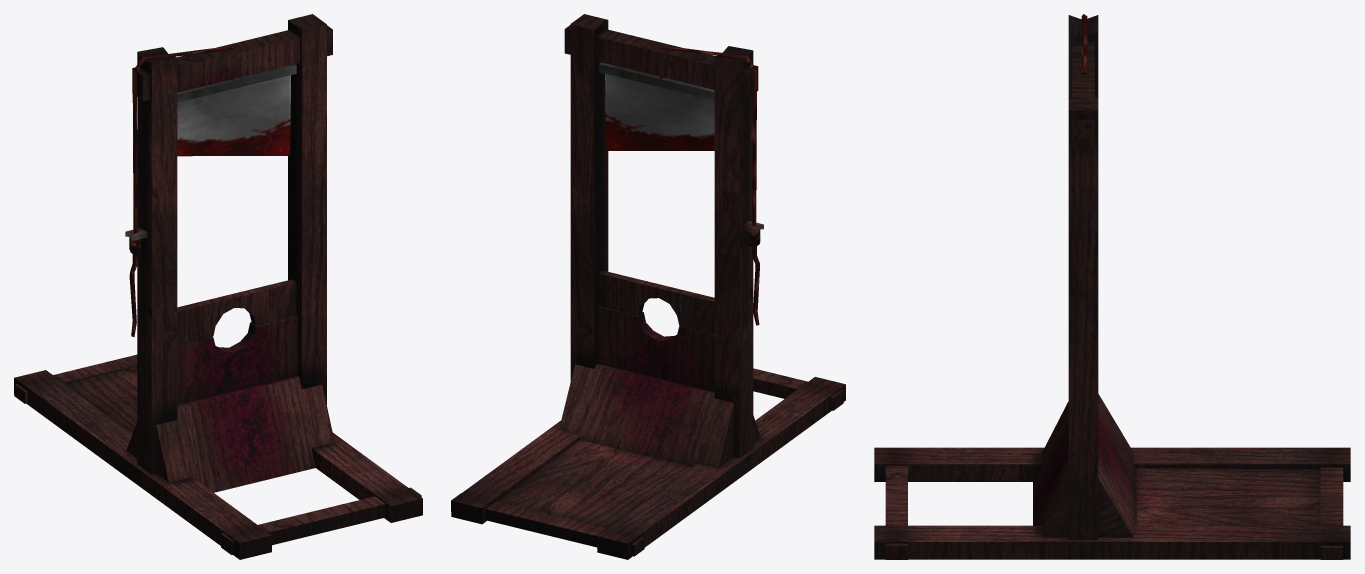
Rendered from guillotine.obj.
3 renders of one model, left to right at view 1: azimuth 30°, elevation 25°; view 2: azimuth 150°, elevation 25°; view 3: azimuth 270°, elevation 25°, orthographic. The views are drawn at different scales.
Parts seen in each view (by area): view 1: Group; view 2: Group; view 3: Group.
Boxes of the visible parts, box(x1,y1,x2,y2) form: Group: box(14, 14, 422, 559); Group: box(451, 14, 845, 559); Group: box(874, 14, 1350, 559).
Bounding box in the file's own units: 32.11 × 66.33 × 63.24.
1 material, 1 textured.
